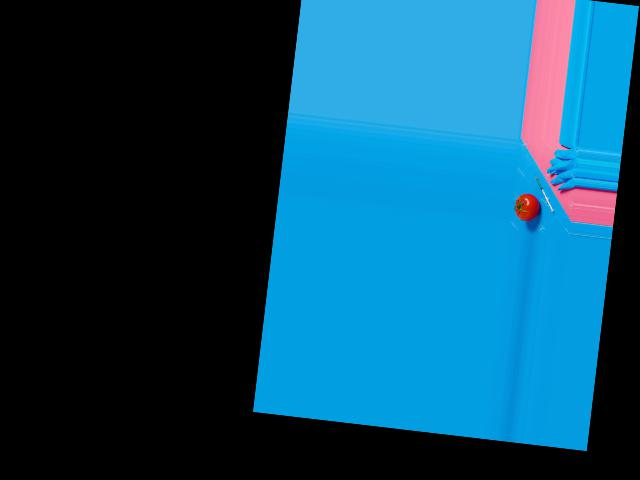tomato: (514, 192, 541, 221)
